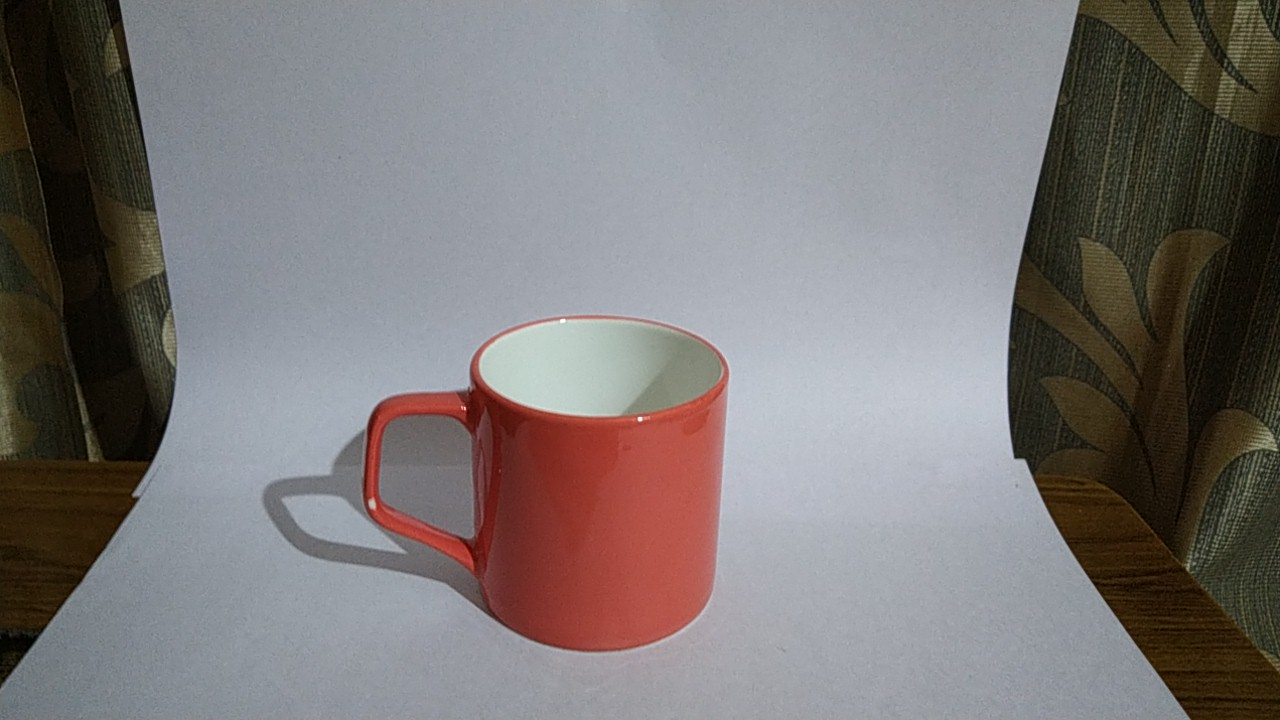cup: (352, 302, 777, 667)
